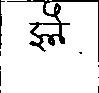ai_matra: (42, 1, 67, 23)
